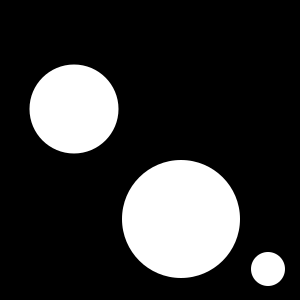rectangle: (122, 160, 240, 278), (30, 64, 118, 154), (251, 252, 285, 286)
